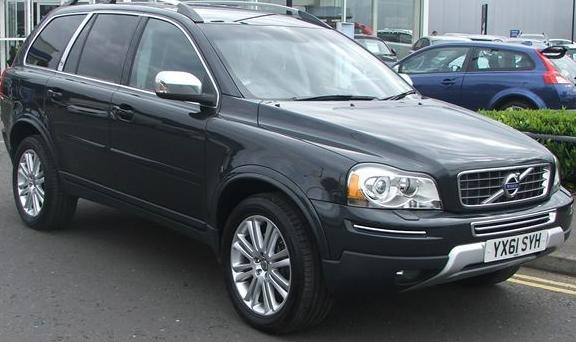front_view: (330, 142, 573, 304)
headlight: (333, 148, 454, 221)
side_glass: (33, 12, 230, 121)
